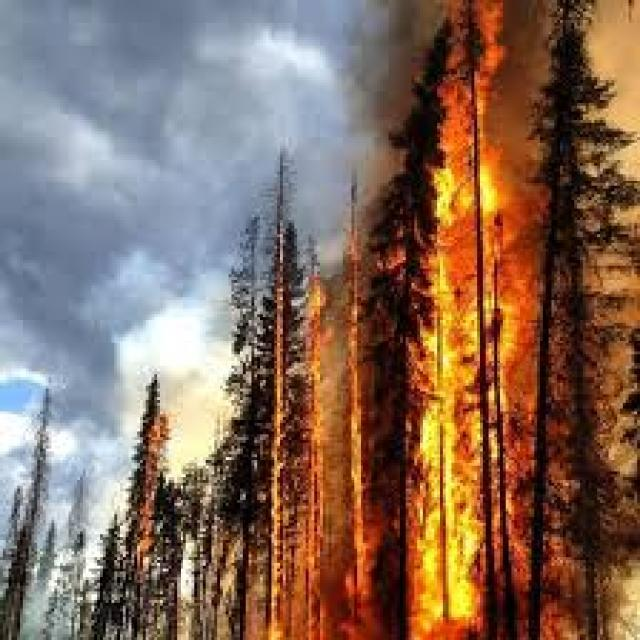Fire: (287, 0, 541, 640), (133, 412, 187, 564)
